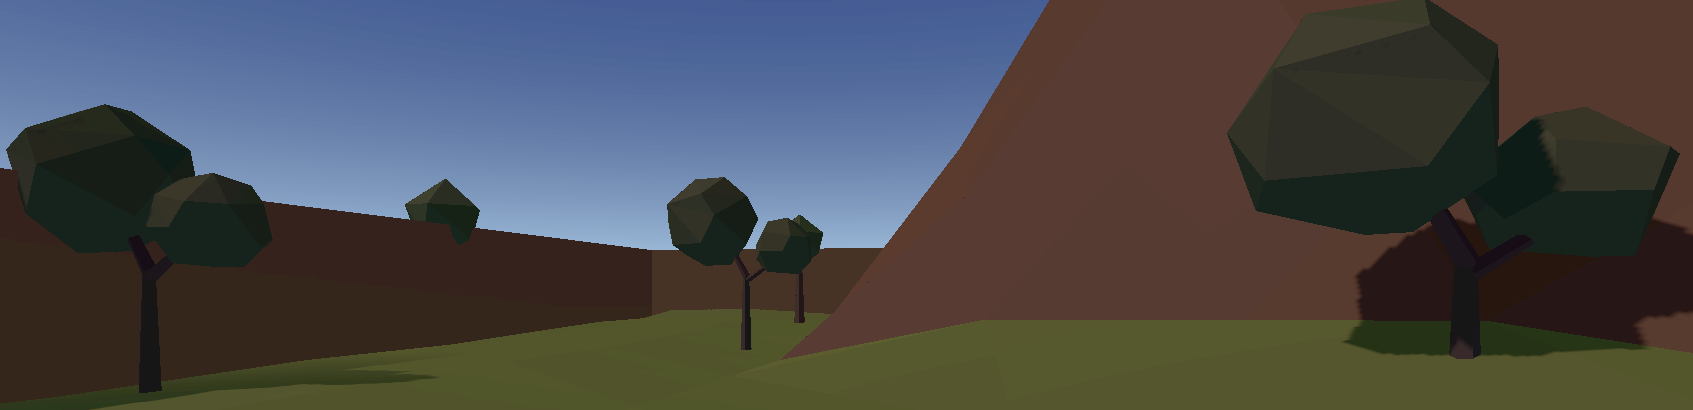tree: (1225, 10, 1681, 369), (3, 101, 277, 380), (665, 178, 811, 354), (784, 211, 832, 334), (405, 181, 480, 240)
